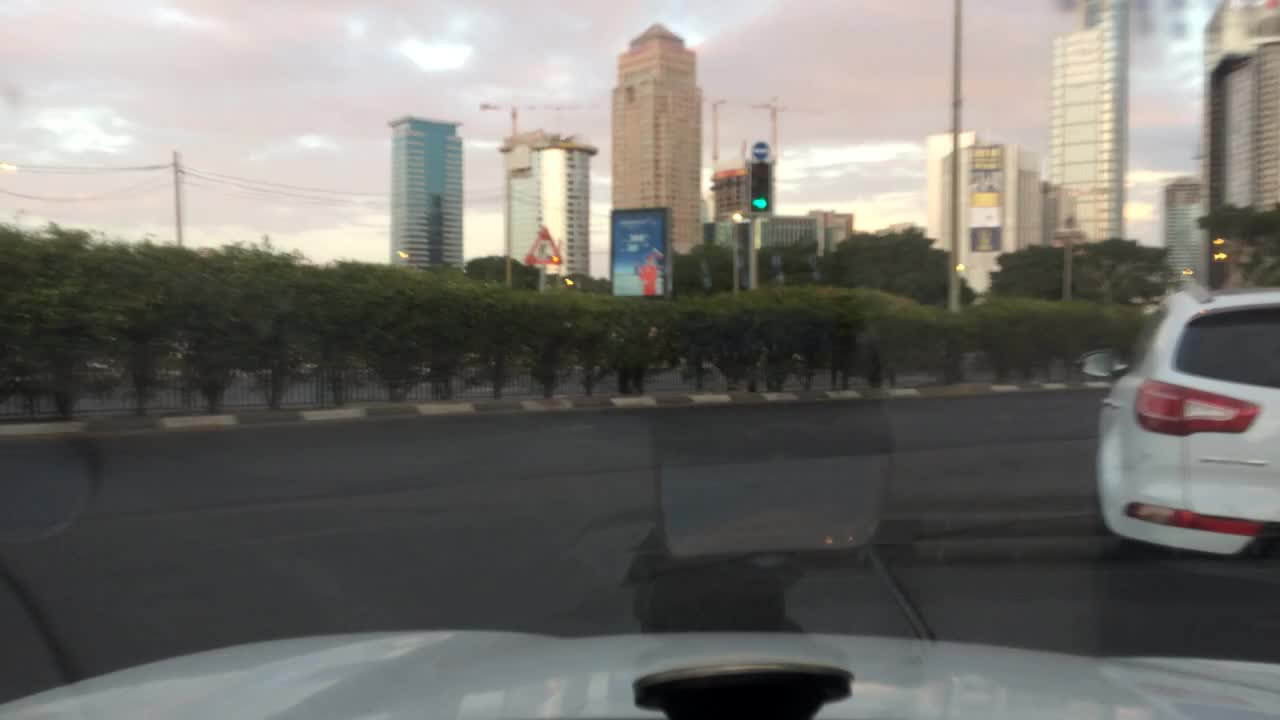car: (1072, 283, 1279, 556)
traffic light: (747, 162, 774, 214)
traffic sign: (523, 225, 562, 265), (750, 140, 770, 158)
